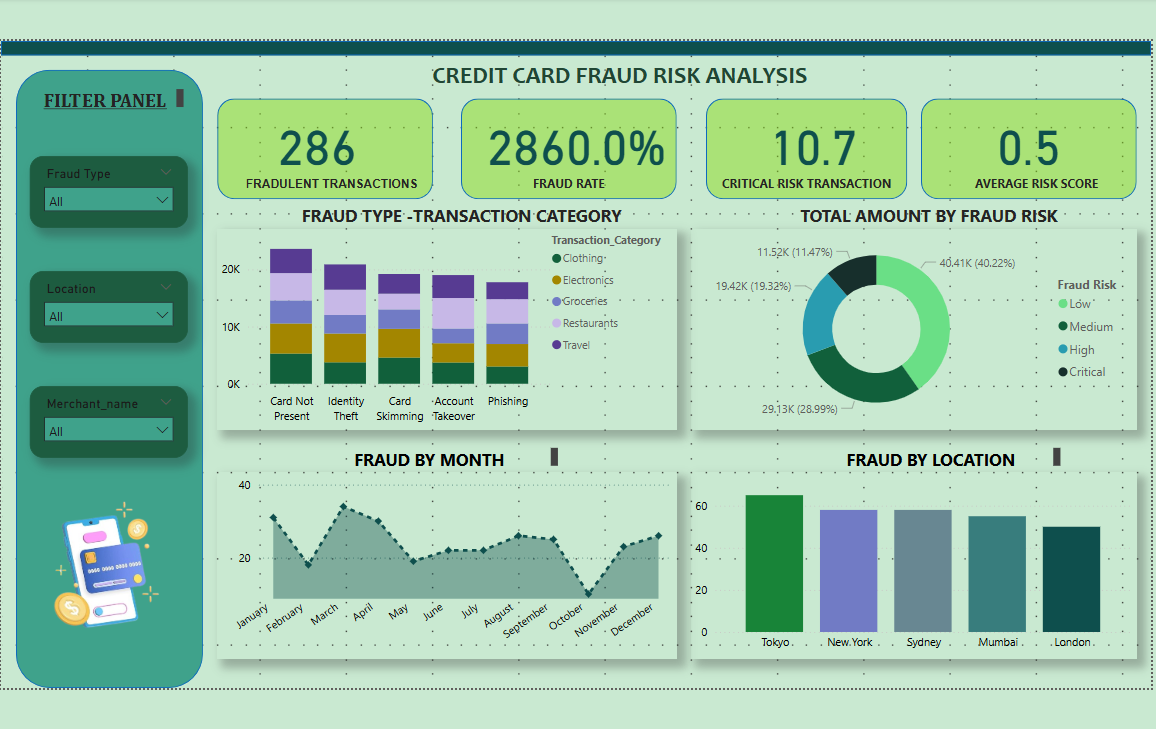

Layout of this report page (visuals, bound fields, positions):
{"tool":"powerbi","page":{"name":"Page 1","canvas":[1280,720],"ordinal":0},"visuals":[{"type":"shape","box":[16,32,208,688],"z":0},{"type":"textbox","box":[336,16,704,48],"z":1000},{"type":"columnChart","fields":{"Y":["Sheet1.Total transaction"],"Category":["Sheet1.Fraud Type"],"Series":["Sheet1.Transaction_Category"]},"box":[240,208,512,224],"z":2000},{"type":"donutChart","fields":{"Category":["Sheet1.Fraud Risk"],"Y":["Sheet1.Total transaction"]},"box":[768,208,496,224],"z":3000},{"type":"lineChart","fields":{"Category":["Sheet1.Timestamp.Variation.Date Hierarchy.Month"],"Y":["Sheet1.Fradulent transaction by each state"]},"box":[240,480,512,208],"z":4000},{"type":"textbox","box":[336,448,288,32],"z":5000},{"type":"columnChart","fields":{"Category":["Sheet1.Location"],"Y":["Sheet1.Fradulent transaction by each state"]},"box":[768,480,496,208],"z":6000},{"type":"textbox","box":[896,448,288,32],"z":7000},{"type":"textbox","box":[784,176,496,48],"z":8000},{"type":"textbox","box":[272,176,480,64],"z":9000},{"type":"textbox","box":[32,48,176,32],"z":10000},{"type":"slicer","fields":{"Values":["Sheet1.Fraud Type"]},"box":[32,128,176,80],"z":11000},{"type":"slicer","fields":{"Values":["Sheet1.Location"]},"box":[32,256,176,80],"z":12000},{"type":"slicer","fields":{"Values":["Sheet1.Merchant_name"]},"box":[32,384,176,80],"z":13000},{"type":"image","box":[0,464,224,256],"z":14000},{"type":"shape","box":[240,64,240,112],"z":15000},{"type":"shape","box":[512,64,240,112],"z":16000},{"type":"card","fields":{"Values":["Sheet1.Fradulent transaction"]},"box":[256,80,192,64],"z":17000},{"type":"shape","box":[784,64,224,112],"z":18000},{"type":"card","fields":{"Values":["Sheet1.Critical risk transaction"]},"box":[832,80,144,64],"z":19000},{"type":"shape","box":[1024,64,240,112],"z":20000},{"type":"card","fields":{"Values":["Sheet1.AVG RISK SCORE"]},"box":[1072,80,144,64],"z":21000},{"type":"card","fields":{"Values":["Sheet1.Fraud rate %"]},"box":[528,80,224,64],"z":22000},{"type":"textbox","box":[256,144,224,32],"z":23000},{"type":"textbox","box":[512,144,240,32],"z":24000},{"type":"textbox","box":[784,144,224,32],"z":25000},{"type":"textbox","box":[1040,144,224,32],"z":26000},{"type":"shape","box":[0,0,1280,16],"z":27000}]}

Visuals, with their boxes on the page's 1280x720 design canvas (x1, y1, x2, y2). These are canvas units, not pixel positions in the 1156x729 screenshot, which may show the page scaled, cropped or inside an application window:
shape: l=16, t=32, r=224, b=720
textbox: l=336, t=16, r=1040, b=64
columnChart - Sheet1.Total transaction x Sheet1.Fraud Type: l=240, t=208, r=752, b=432
donutChart - Sheet1.Fraud Risk x Sheet1.Total transaction: l=768, t=208, r=1264, b=432
lineChart - Sheet1.Timestamp.Variation.Date Hierarchy.Month x Sheet1.Fradulent transaction by each state: l=240, t=480, r=752, b=688
textbox: l=336, t=448, r=624, b=480
columnChart - Sheet1.Location x Sheet1.Fradulent transaction by each state: l=768, t=480, r=1264, b=688
textbox: l=896, t=448, r=1184, b=480
textbox: l=784, t=176, r=1280, b=224
textbox: l=272, t=176, r=752, b=240
textbox: l=32, t=48, r=208, b=80
slicer - Sheet1.Fraud Type: l=32, t=128, r=208, b=208
slicer - Sheet1.Location: l=32, t=256, r=208, b=336
slicer - Sheet1.Merchant_name: l=32, t=384, r=208, b=464
image: l=0, t=464, r=224, b=720
shape: l=240, t=64, r=480, b=176
shape: l=512, t=64, r=752, b=176
card - Sheet1.Fradulent transaction: l=256, t=80, r=448, b=144
shape: l=784, t=64, r=1008, b=176
card - Sheet1.Critical risk transaction: l=832, t=80, r=976, b=144
shape: l=1024, t=64, r=1264, b=176
card - Sheet1.AVG RISK SCORE: l=1072, t=80, r=1216, b=144
card - Sheet1.Fraud rate %: l=528, t=80, r=752, b=144
textbox: l=256, t=144, r=480, b=176
textbox: l=512, t=144, r=752, b=176
textbox: l=784, t=144, r=1008, b=176
textbox: l=1040, t=144, r=1264, b=176
shape: l=0, t=0, r=1280, b=16
